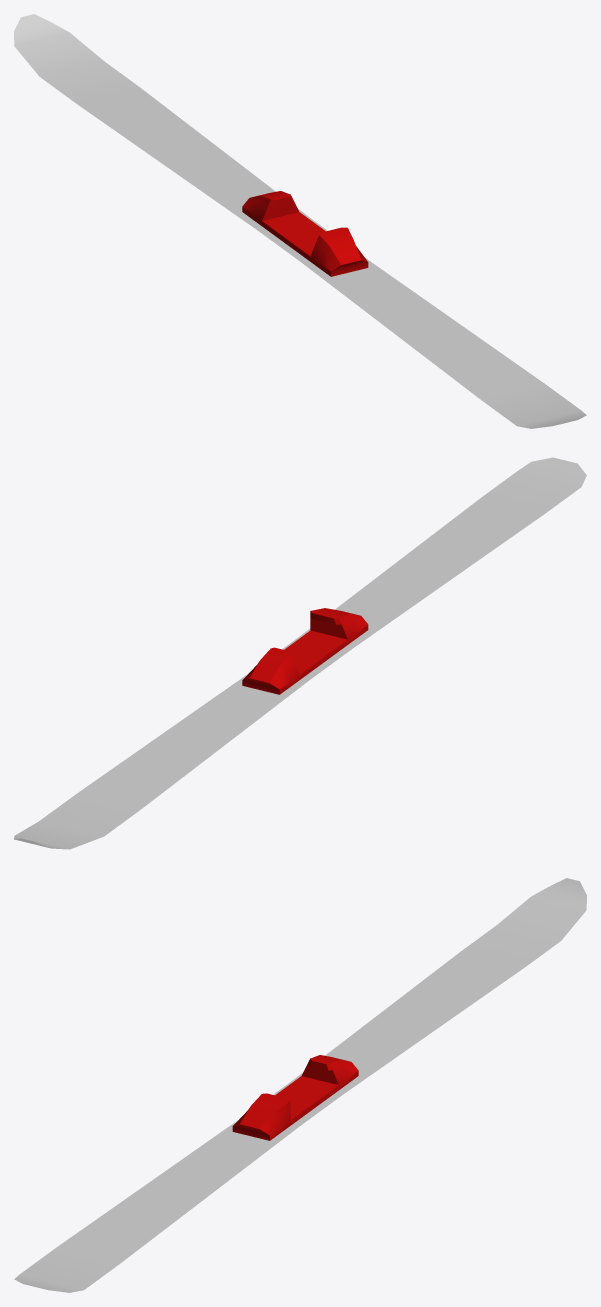
Rendered from Ski.fbx.
The picture shows the model from 3 angles, top to bottom: view 1: azimuth 30°, elevation 25°; view 2: azimuth 150°, elevation 25°; view 3: azimuth 330°, elevation 25°; orthographic projection.
Parts seen in each view (by area): view 1: Polygon, Cube; view 2: Polygon, Cube; view 3: Polygon, Cube.
Boxes of the visible parts, bbox=[...] form: Polygon: bbox=[14, 14, 586, 428]; Cube: bbox=[242, 191, 368, 276]; Polygon: bbox=[14, 457, 586, 849]; Cube: bbox=[242, 608, 368, 694]; Polygon: bbox=[14, 878, 586, 1292]; Cube: bbox=[232, 1055, 358, 1140].
Bounding box in the file's own units: 8.62 × 3.18 × 125.
